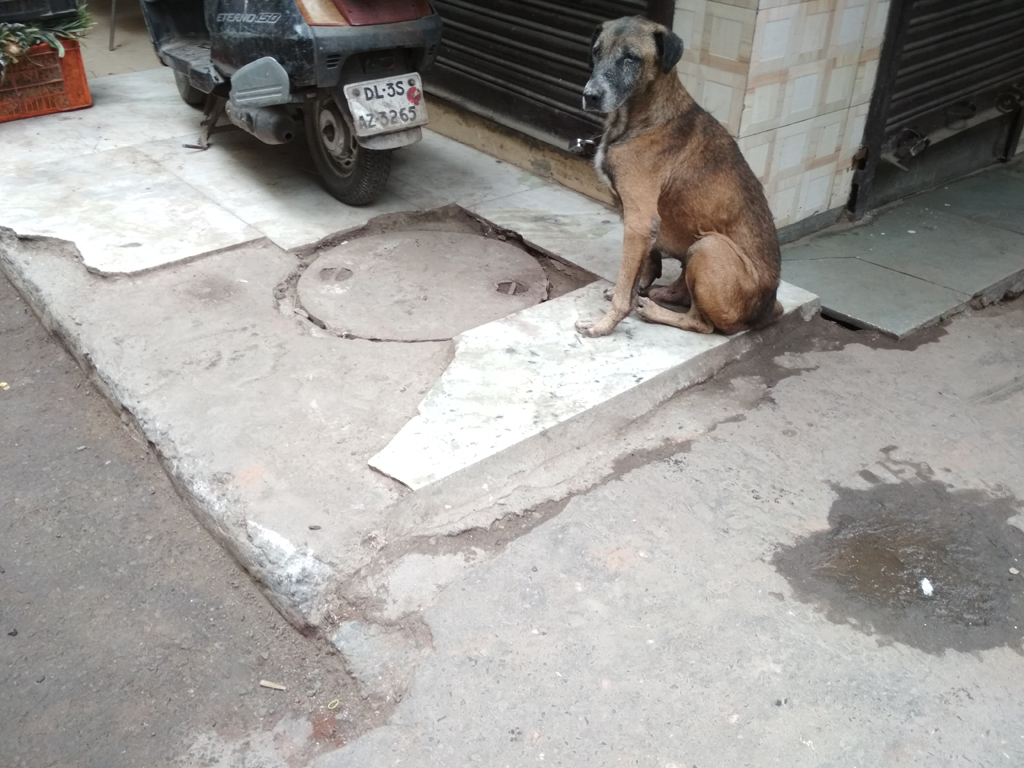dog: (573, 16, 782, 341)
